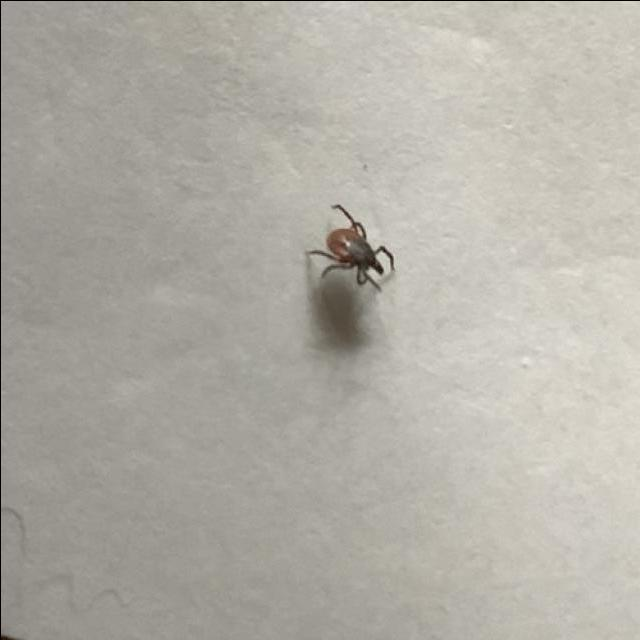Ixodes Ricinus-F: (306, 204, 394, 292)
